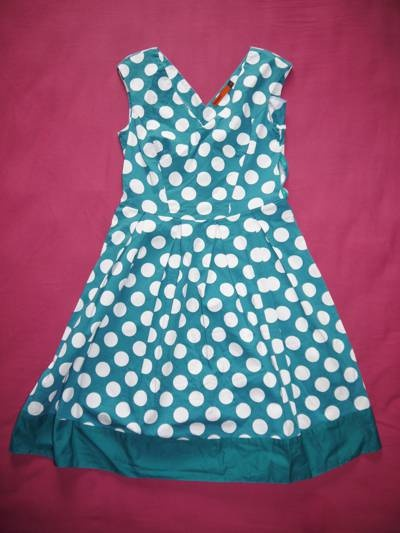Dress: (15, 21, 392, 505)
